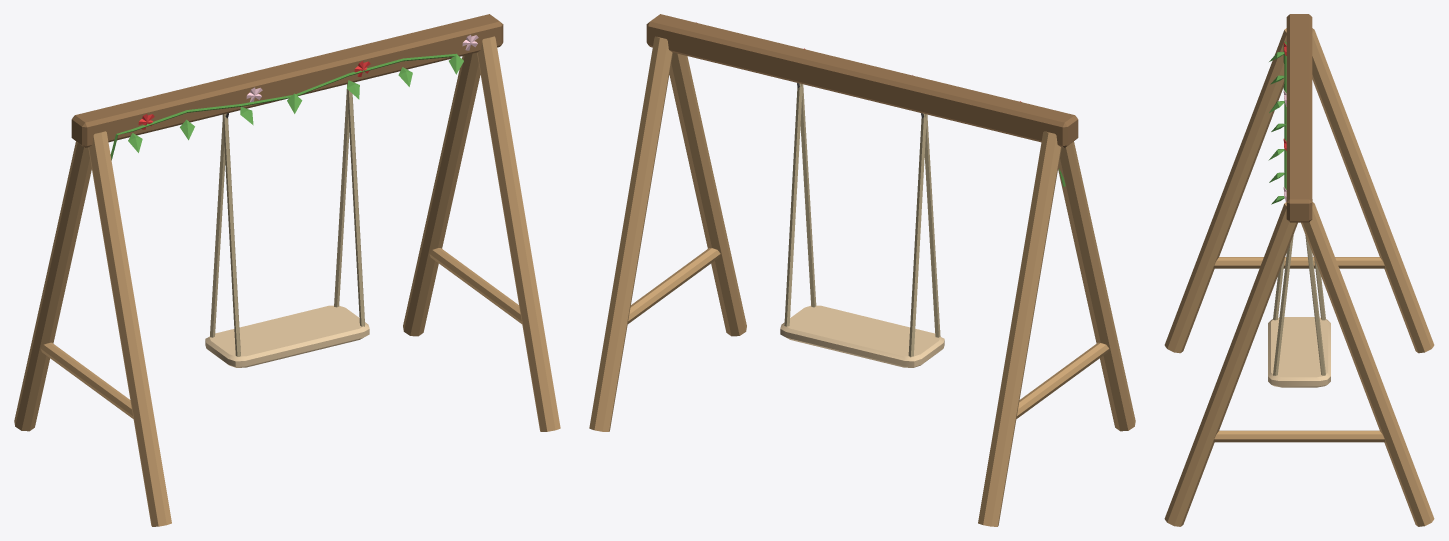
Rendered from furn_swing.glb.
3 renders of one model, left to right at view 1: azimuth 30°, elevation 25°; view 2: azimuth 150°, elevation 25°; view 3: azimuth 270°, elevation 25°, orthographic. The views are drawn at different scales.
Parts seen in each view (by area): view 1: furn_swing_body; view 2: furn_swing_body; view 3: furn_swing_body.
Boxes of the visible parts, x1,y1,x2,y2 form: furn_swing_body: (14,14,560,526); furn_swing_body: (589,14,1135,526); furn_swing_body: (1164,14,1434,526).
Bounding box in the file's own units: 1.56 × 1.28 × 0.9462.
